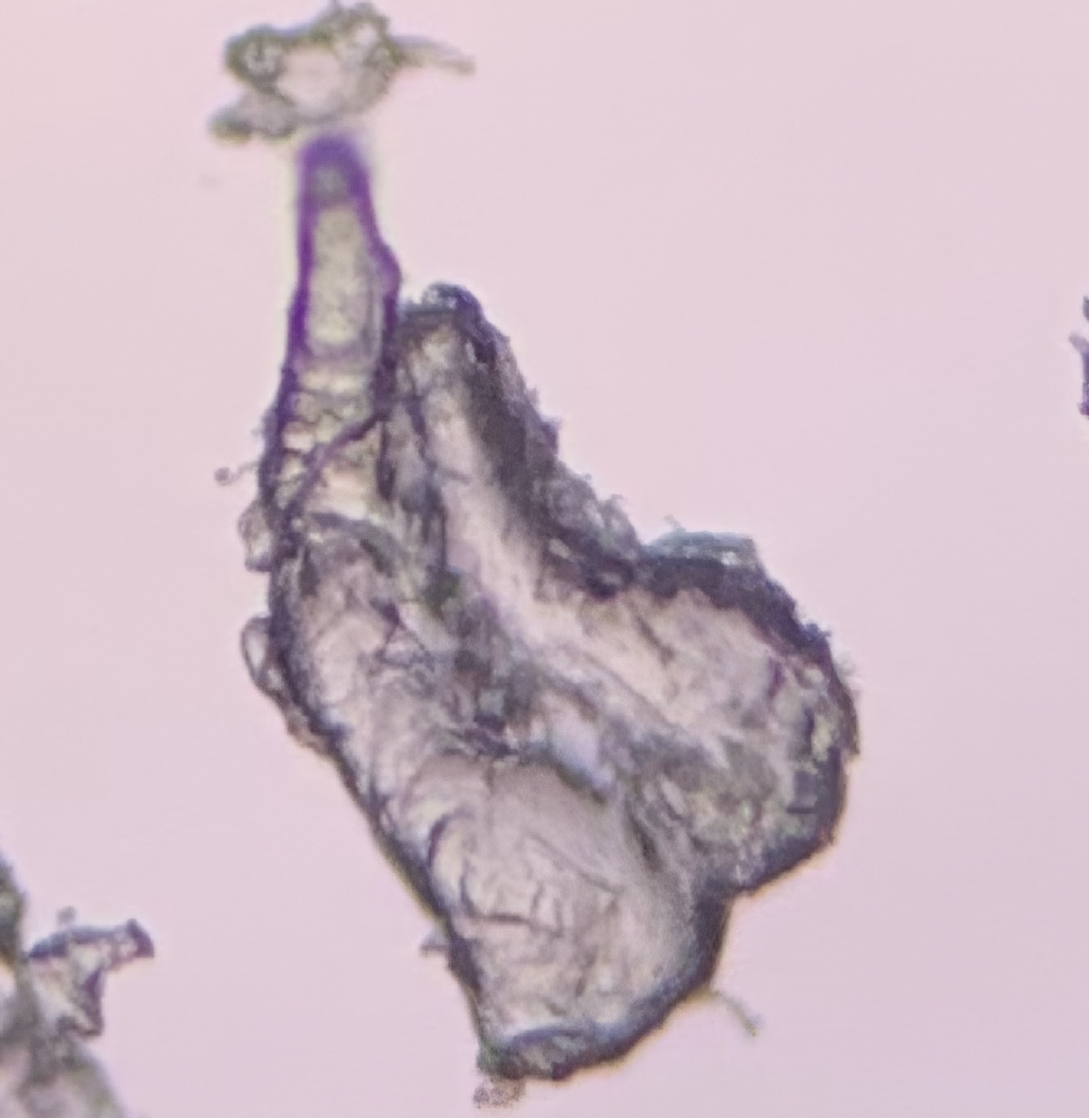microplastic: (216, 139, 862, 1107), (1, 856, 158, 1118), (209, 5, 479, 136), (1068, 296, 1089, 416)
